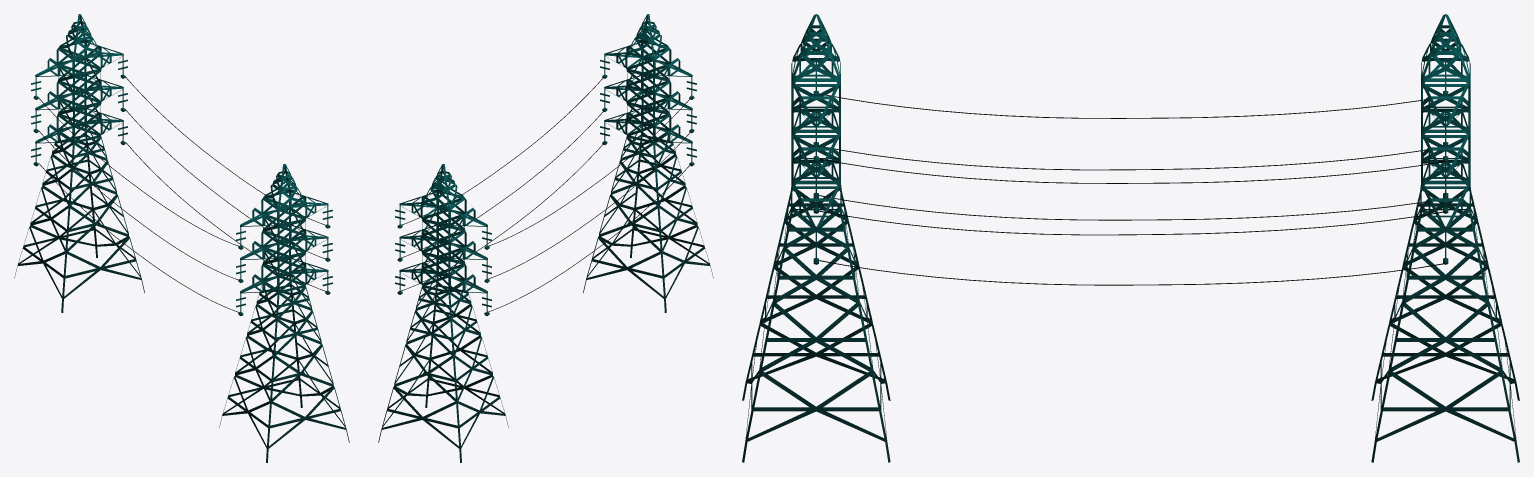
File: buildings-industrial-transmissiontower_v1.fbx
3 views of the same model, side by side, from view 1: azimuth 30°, elevation 25°; view 2: azimuth 150°, elevation 25°; view 3: azimuth 270°, elevation 25° (orthographic). The views are drawn at different scales.
Visible parts, largest first — view 1: TransmissionTower_link, TransmissionTower_front; view 2: TransmissionTower_link, TransmissionTower_front; view 3: TransmissionTower_link, TransmissionTower_front.
Boxes of the visible parts, left/top/right/bottom form: TransmissionTower_link: left=14, top=14, right=325, bottom=312; TransmissionTower_front: left=219, top=164, right=349, bottom=462; TransmissionTower_link: left=378, top=77, right=690, bottom=462; TransmissionTower_front: left=583, top=14, right=713, bottom=312; TransmissionTower_link: left=819, top=14, right=1519, bottom=462; TransmissionTower_front: left=742, top=14, right=890, bottom=462.
Bounding box in the file's own units: 16.34 × 43.83 × 74.17.
